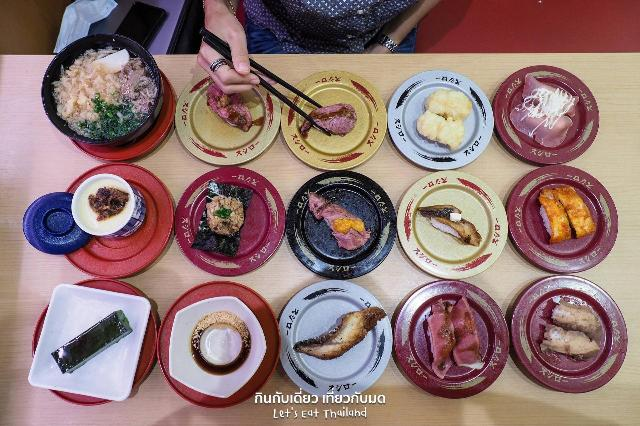janback: (316, 175, 401, 216), (315, 247, 397, 283), (288, 193, 323, 277), (373, 216, 403, 262)
jangold: (281, 125, 364, 172), (175, 127, 271, 165), (299, 65, 378, 109), (406, 171, 500, 207), (415, 236, 491, 277), (397, 185, 427, 269), (475, 207, 507, 274), (179, 76, 214, 127), (355, 111, 387, 165)
janwhite: (383, 80, 425, 171), (392, 136, 499, 171), (297, 361, 380, 403), (285, 283, 382, 318), (404, 56, 496, 92), (465, 81, 495, 162), (285, 303, 302, 393), (378, 318, 397, 378)
